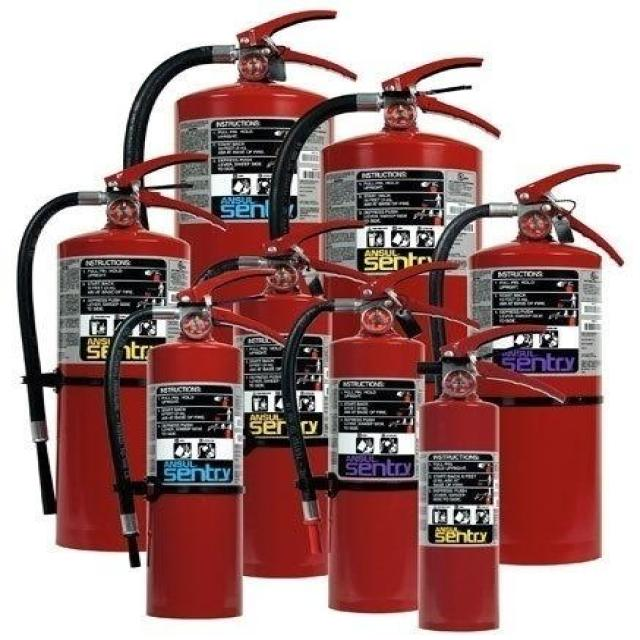fire_extinguisher: (114, 6, 365, 506), (260, 52, 506, 553), (8, 150, 229, 557), (425, 160, 627, 570), (275, 258, 489, 614), (97, 263, 301, 623), (406, 321, 570, 639)
